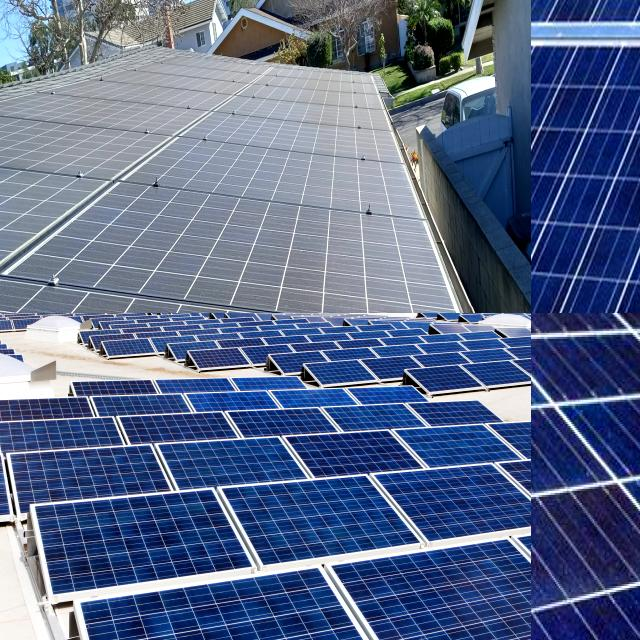crack: (531, 313, 640, 640), (531, 0, 640, 313), (64, 549, 417, 640), (14, 483, 261, 610), (210, 466, 422, 592), (336, 525, 531, 640), (365, 456, 531, 576), (0, 441, 189, 533), (148, 423, 312, 503), (278, 419, 420, 490), (0, 454, 57, 535)
dust: (266, 236, 437, 306), (130, 202, 245, 294), (313, 159, 405, 206), (197, 148, 296, 189), (62, 226, 124, 286), (34, 130, 118, 170), (16, 299, 166, 313), (0, 186, 44, 223)
